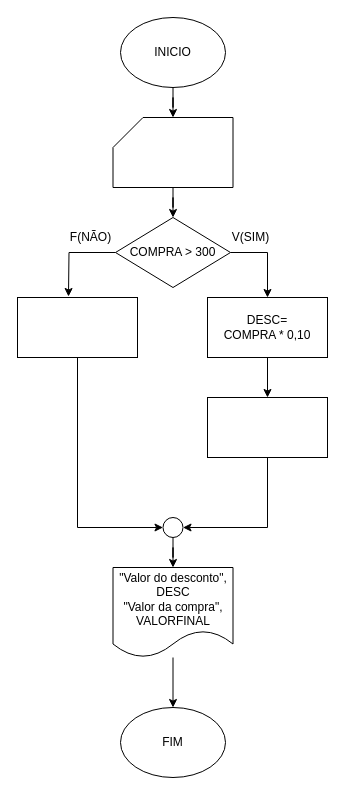
Some shapes in this 345 by 795 pixel diagram are drawn without their labels. Here are the shapes that lost their labels. From the top down, the centre of each, then its label:
At point 172,152: "COMPRA, VALORFINAL".
At point 77,327: "DESC=0 VALORFINAL= COMPRA".
At point 267,427: "VALORFINAL= COMPRA -DESC".
